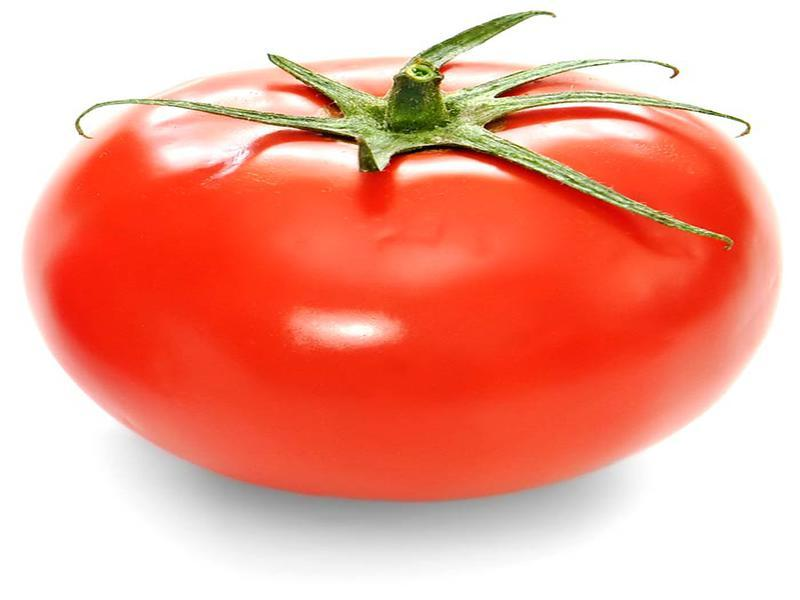full_tomato: (27, 8, 799, 546)
